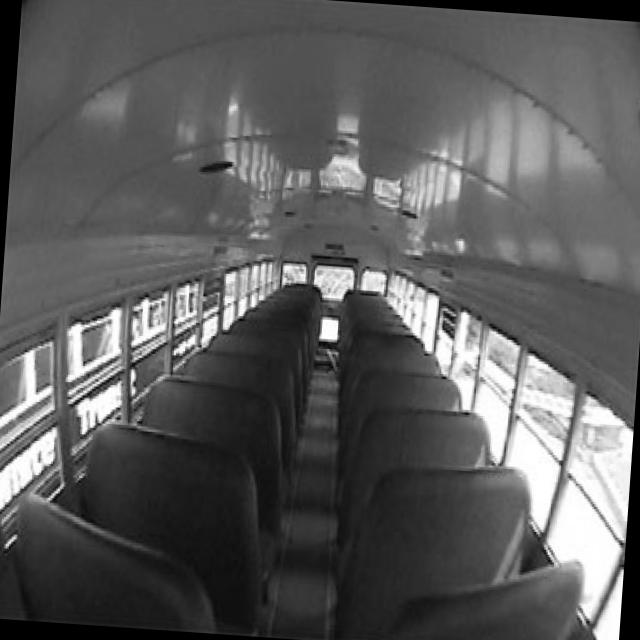2001: (544, 389, 628, 620), (503, 348, 573, 532), (0, 339, 62, 546), (64, 302, 121, 453), (472, 325, 517, 460), (128, 284, 168, 401), (448, 306, 480, 410), (171, 276, 199, 364), (312, 260, 353, 298)
2011: (383, 265, 437, 351), (220, 255, 276, 327)
inside bus: (0, 0, 640, 640)
seats crop: (10, 280, 321, 627), (332, 287, 580, 640)
